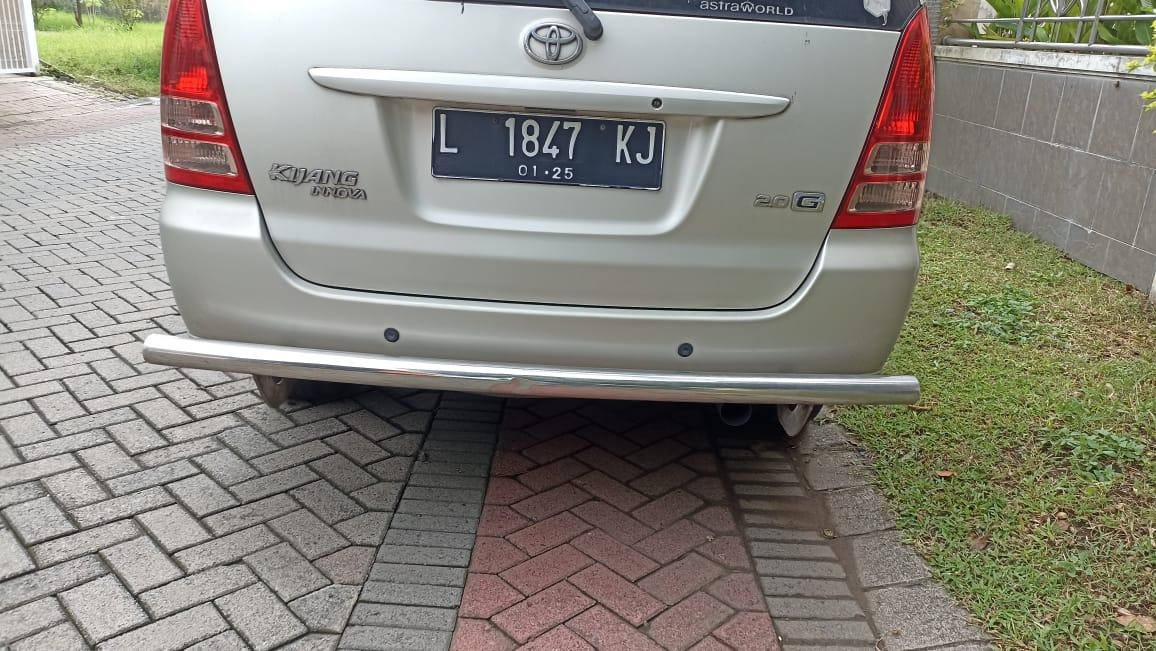plat: (431, 108, 666, 190)
